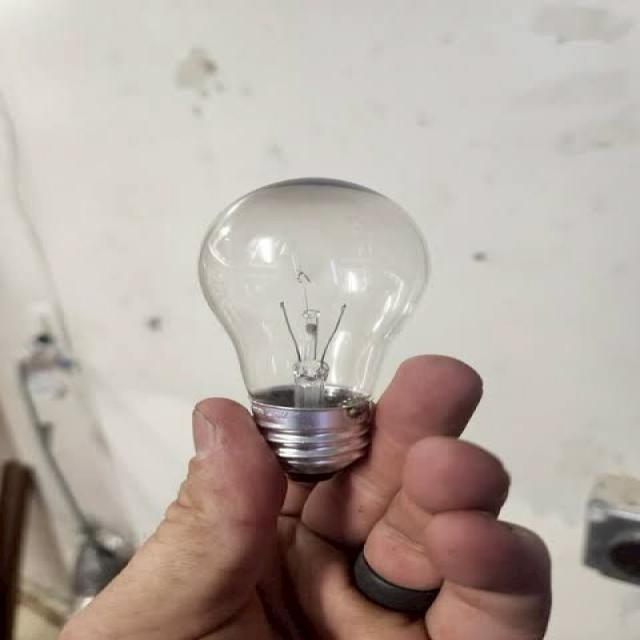bulb: (199, 173, 408, 479)
